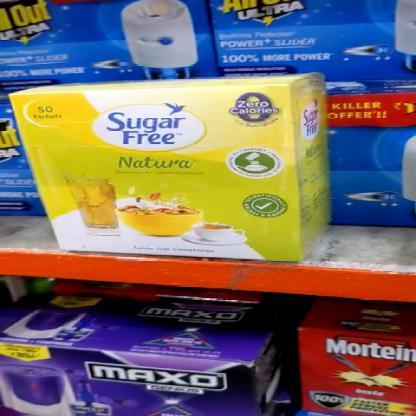SUGAR FREE NATURA SACHET 50: (1, 86, 292, 260)
